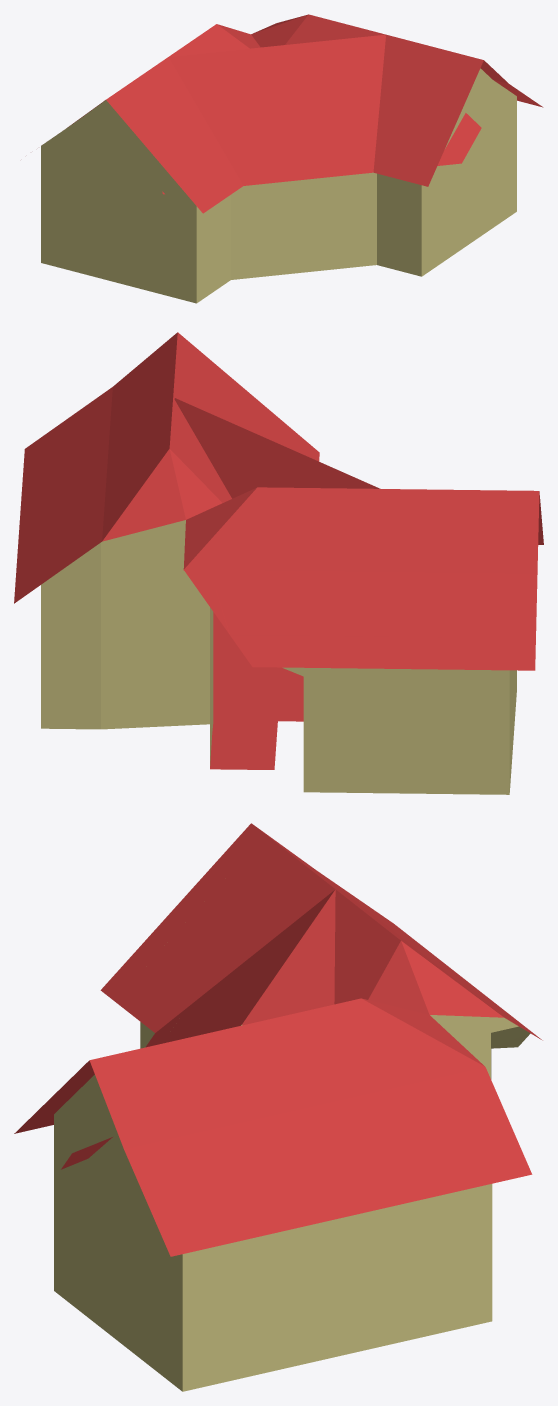
3 views of the same model, one above another, from view 1: azimuth 30°, elevation 25°; view 2: azimuth 150°, elevation 25°; view 3: azimuth 270°, elevation 25° (orthographic). The views are drawn at different scales.
Size of the model in its own units: 26.76 by 17.98 by 10.66.
